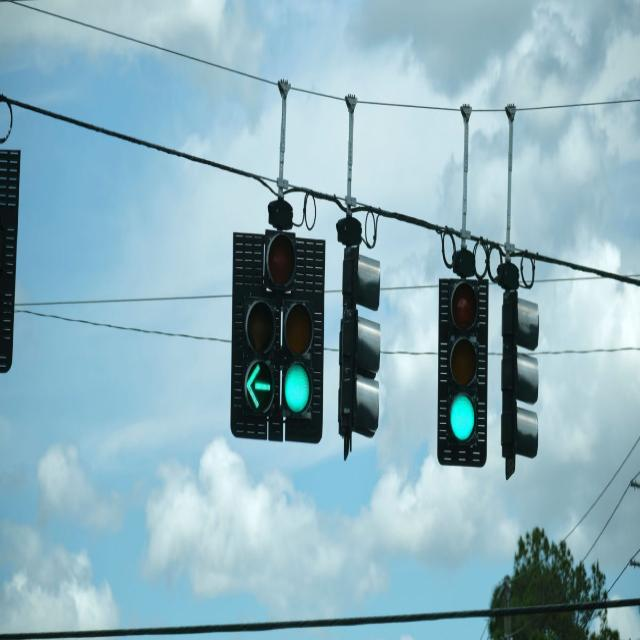green: (442, 285, 486, 453), (235, 282, 277, 428), (282, 292, 318, 432)
